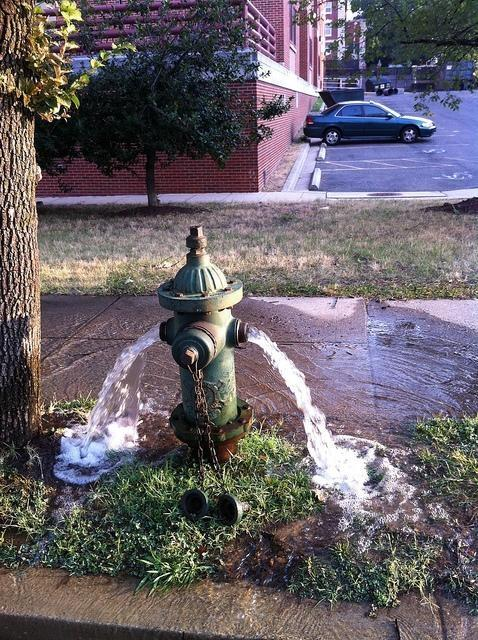car: (301, 101, 437, 147)
